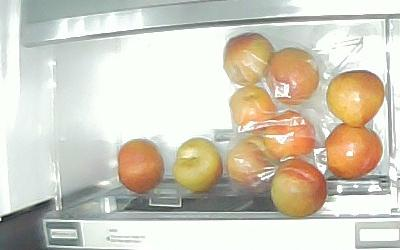prune: (327, 70, 385, 127), (271, 160, 328, 217), (325, 124, 383, 180), (172, 137, 223, 194), (118, 138, 165, 196)
prune_vinyl: (266, 47, 320, 105), (223, 32, 273, 86), (265, 110, 314, 160), (228, 135, 276, 186), (229, 86, 277, 129)
